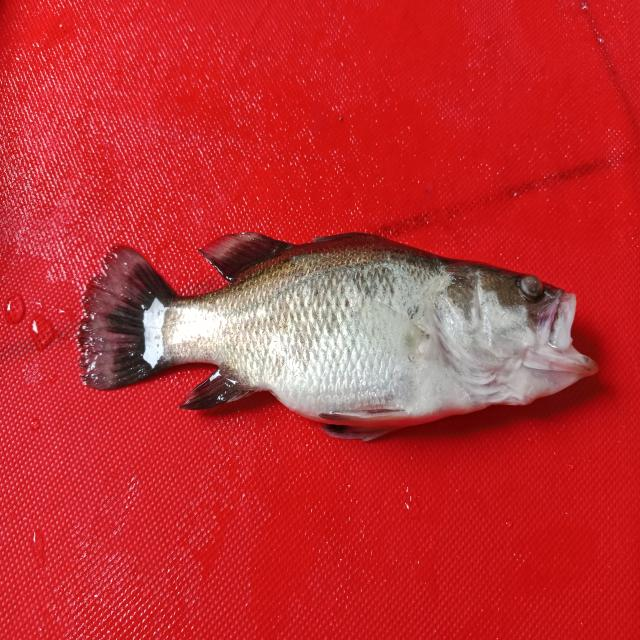ikan: (68, 198, 603, 455)
